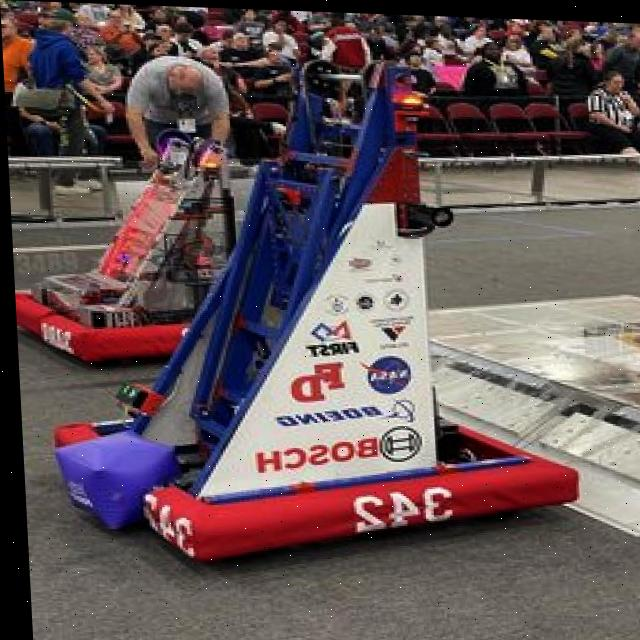robot: (42, 24, 583, 619), (5, 118, 250, 372)
